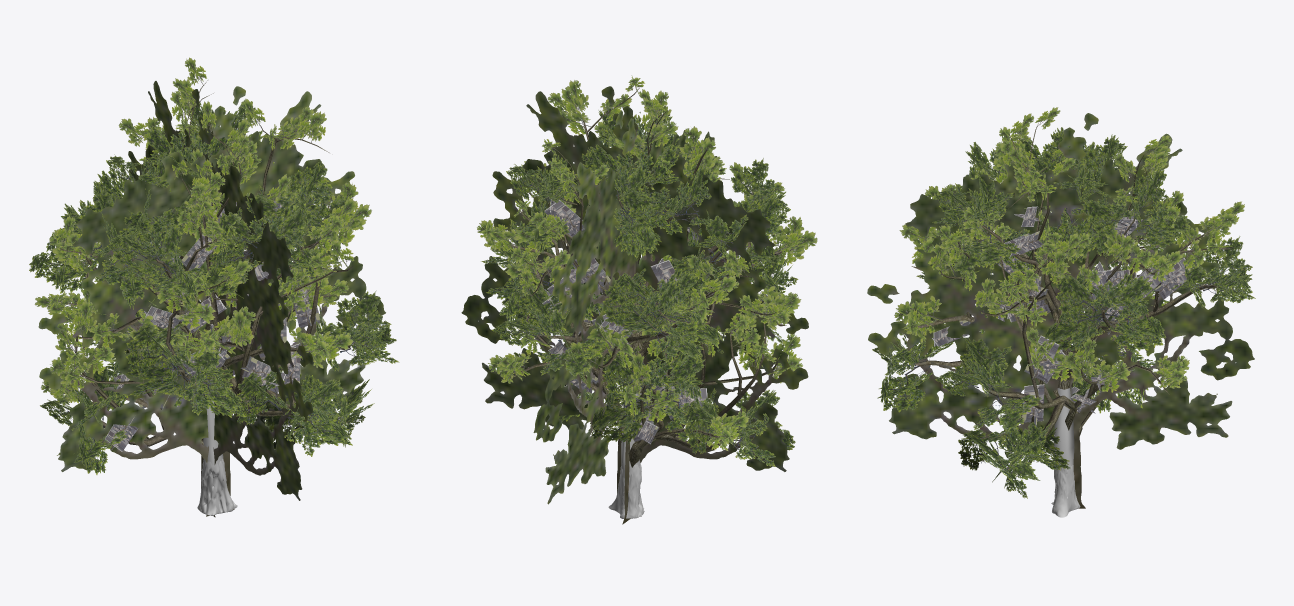
Rendered from Tree-Oak4A.fbx.
3 views of the same model, side by side, from view 1: azimuth 30°, elevation 25°; view 2: azimuth 150°, elevation 25°; view 3: azimuth 270°, elevation 25° (orthographic). The views are drawn at different scales.
Visible parts, largest first — view 1: Tree-Oak4A_LOD0, Billboard-Oak4A; view 2: Tree-Oak4A_LOD0, Billboard-Oak4A; view 3: Tree-Oak4A_LOD0, Billboard-Oak4A.
Part boxes in pixels (box(x1,y1,x2,y2)): Tree-Oak4A_LOD0: box(29, 57, 399, 515); Billboard-Oak4A: box(38, 81, 385, 517); Tree-Oak4A_LOD0: box(477, 75, 817, 518); Billboard-Oak4A: box(461, 86, 808, 524); Tree-Oak4A_LOD0: box(872, 107, 1255, 517); Billboard-Oak4A: box(867, 113, 1254, 508).
Size of what is drawn, in the model's own units: 2745 by 3164 by 2982.
